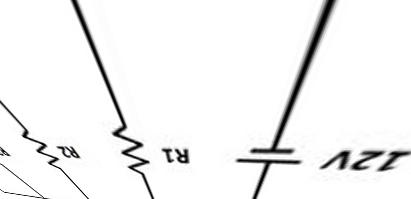resistor: (112, 109, 155, 185), (15, 117, 59, 173)
